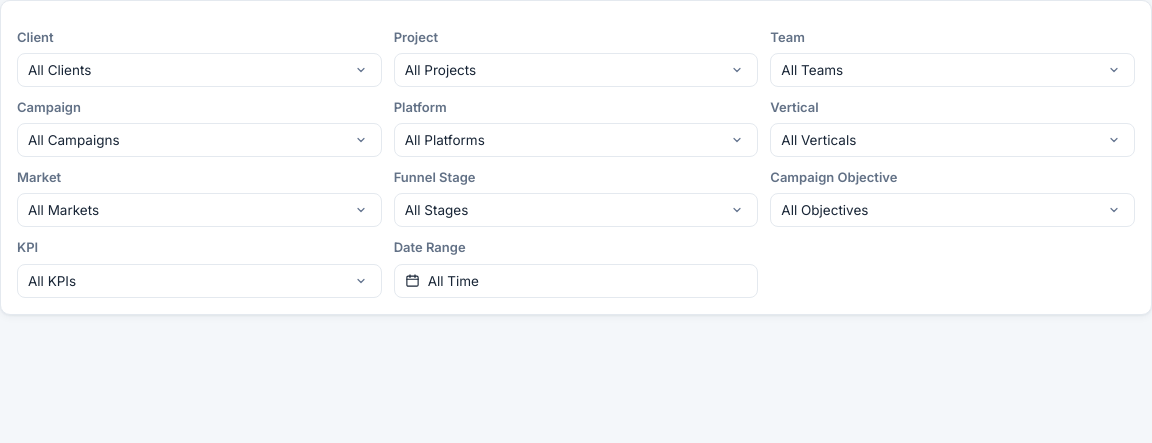
Test: FilterPanel metadata failures › shows a metadata failure and keeps the current selection
The image size is (1152, 443).
Select "Meta" in the dropdown labelled "Platform": x=576, y=140 [394, 123, 758, 157]
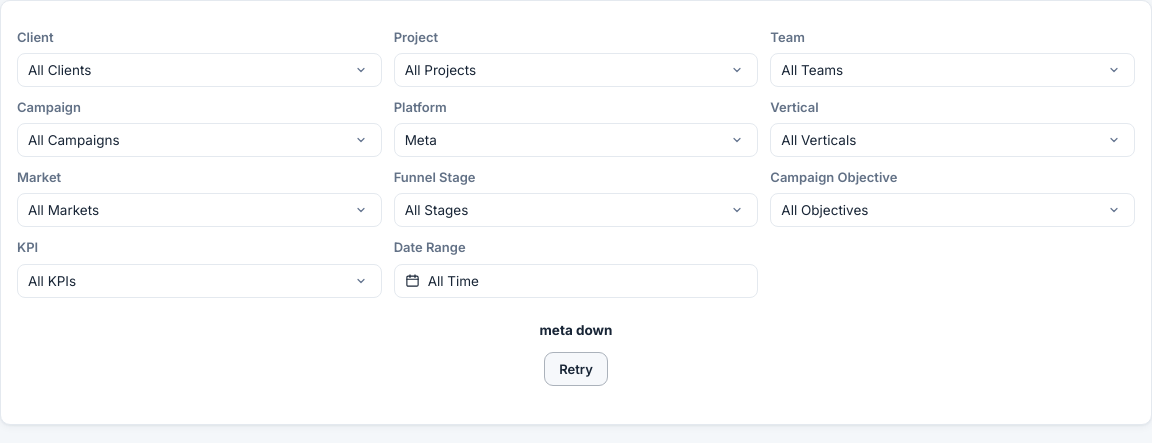
Result: the text "meta down" is shown at [540, 320, 612, 340]
Result: the button "Retry" is shown
Click the button "Retry": x=576, y=370 [544, 352, 608, 386]
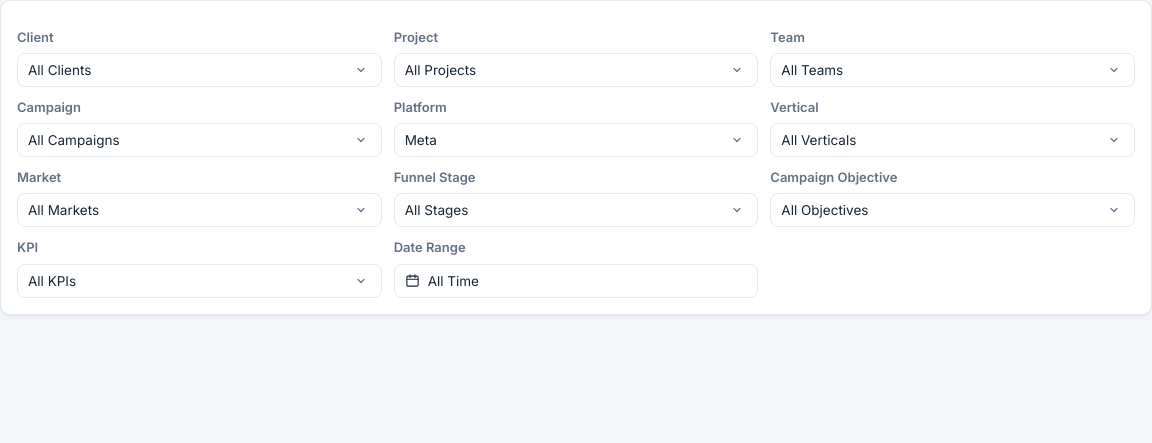
Result: the text "meta down" is gone
